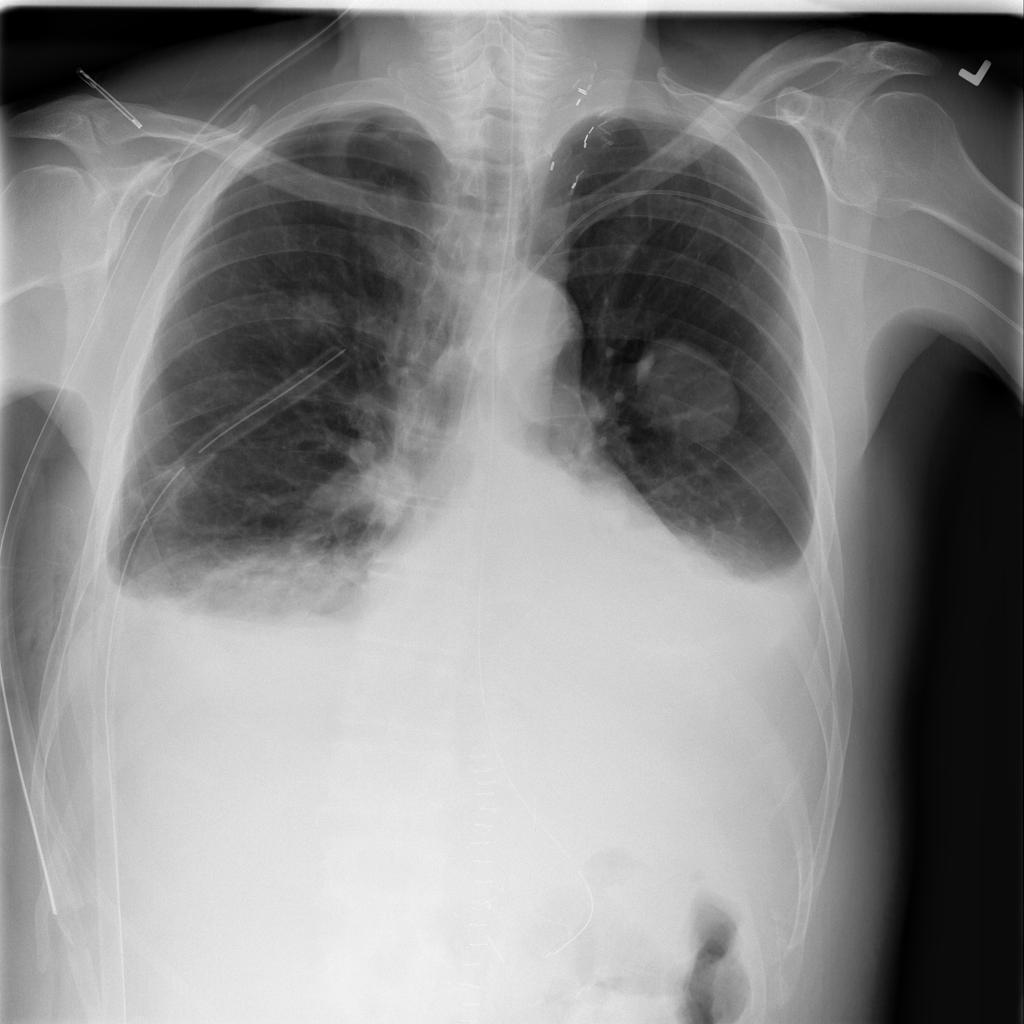nodule: (618, 320, 754, 463), (277, 279, 354, 351)
